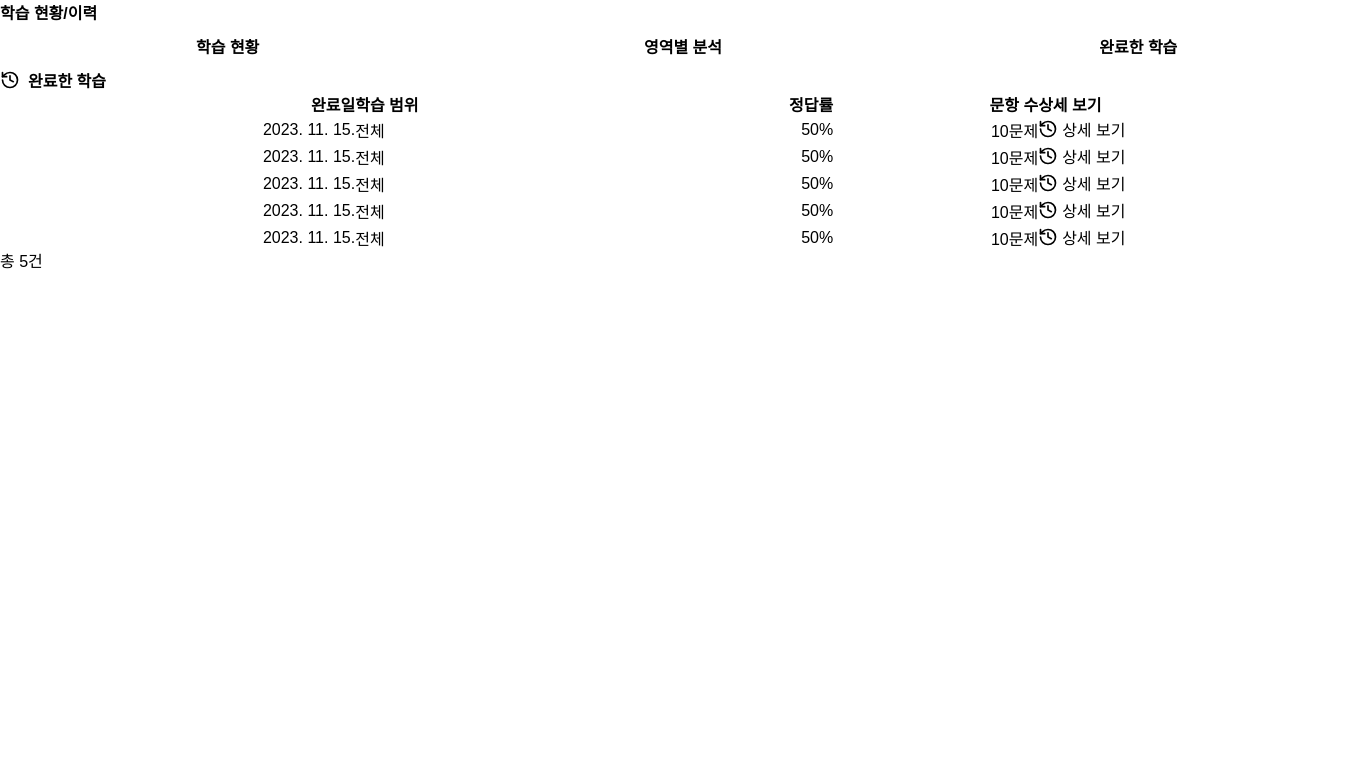
상세 열림 및 페이지 전환/오류 격리 (AC 3, AC 5) › 상세 열기 시 UUID가 아닌 날짜 의미 라벨을 dialog에 노출한다
Click the 1st button "상세 보기". click: click(1082, 129)
box: top-left (1038, 116), bottom-right (1125, 142)
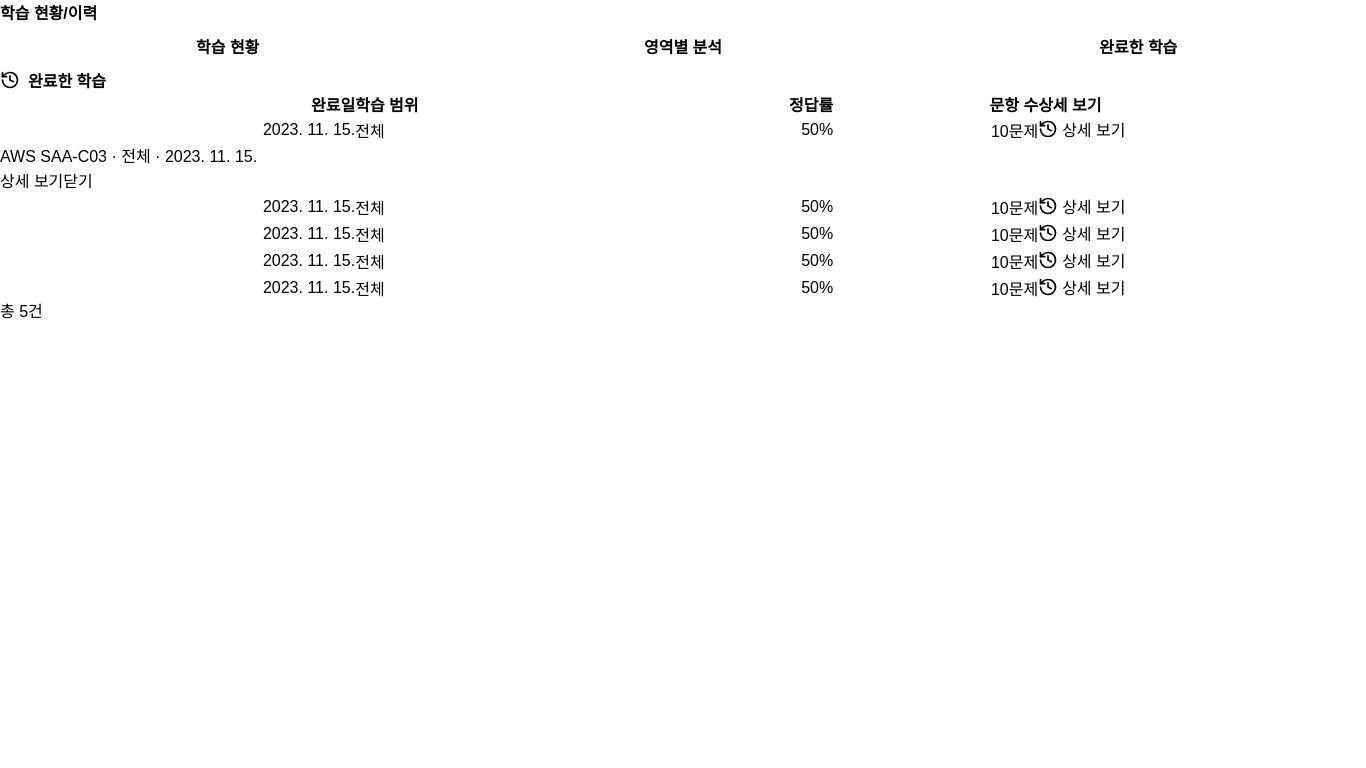
Check: the dialog is shown, box top-left (0, 148), bottom-right (257, 193)
